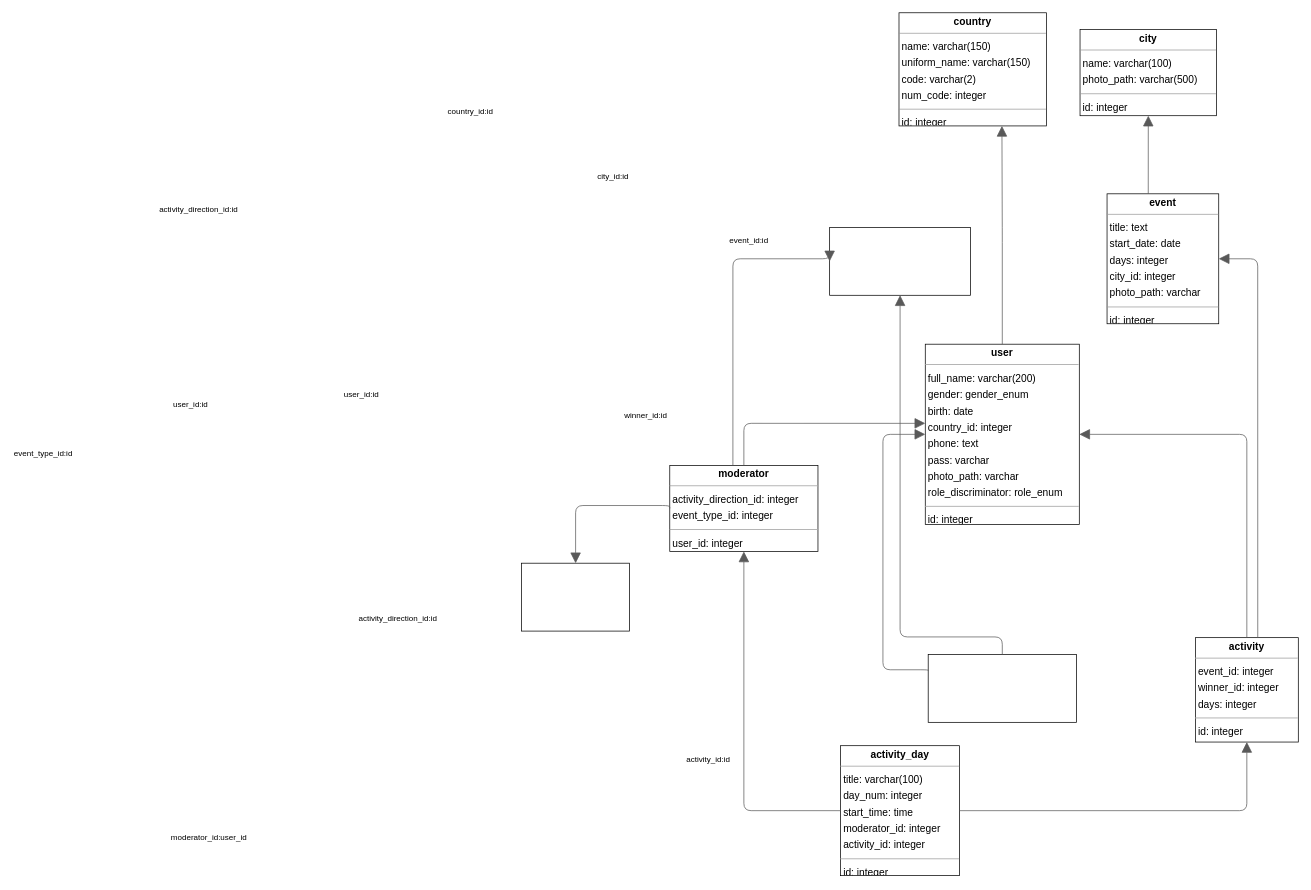
Image size: 1311x890. Some labels were removed from this diagram. The box of each missing label's shape, as (x1, y1, x2, y2) in pixels:
activity_directions name: varchar(100) id: integer: (829, 227, 971, 295)
event_types name: varchar(100) id: integer: (521, 562, 630, 631)
jury activity_direction_id: integer user_id: integer: (927, 654, 1076, 722)
